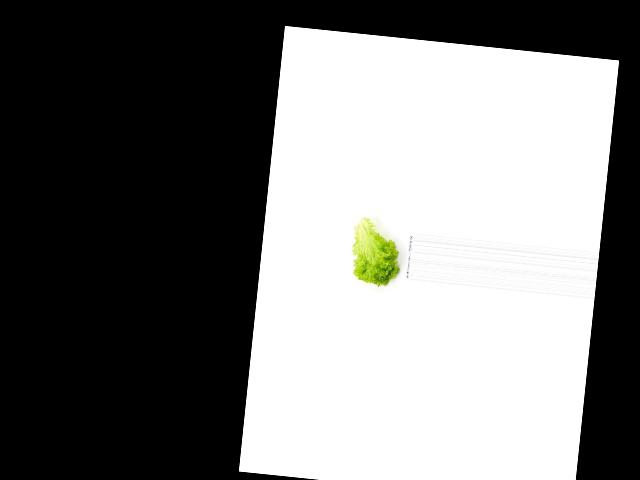lettuce: (346, 216, 404, 291)
